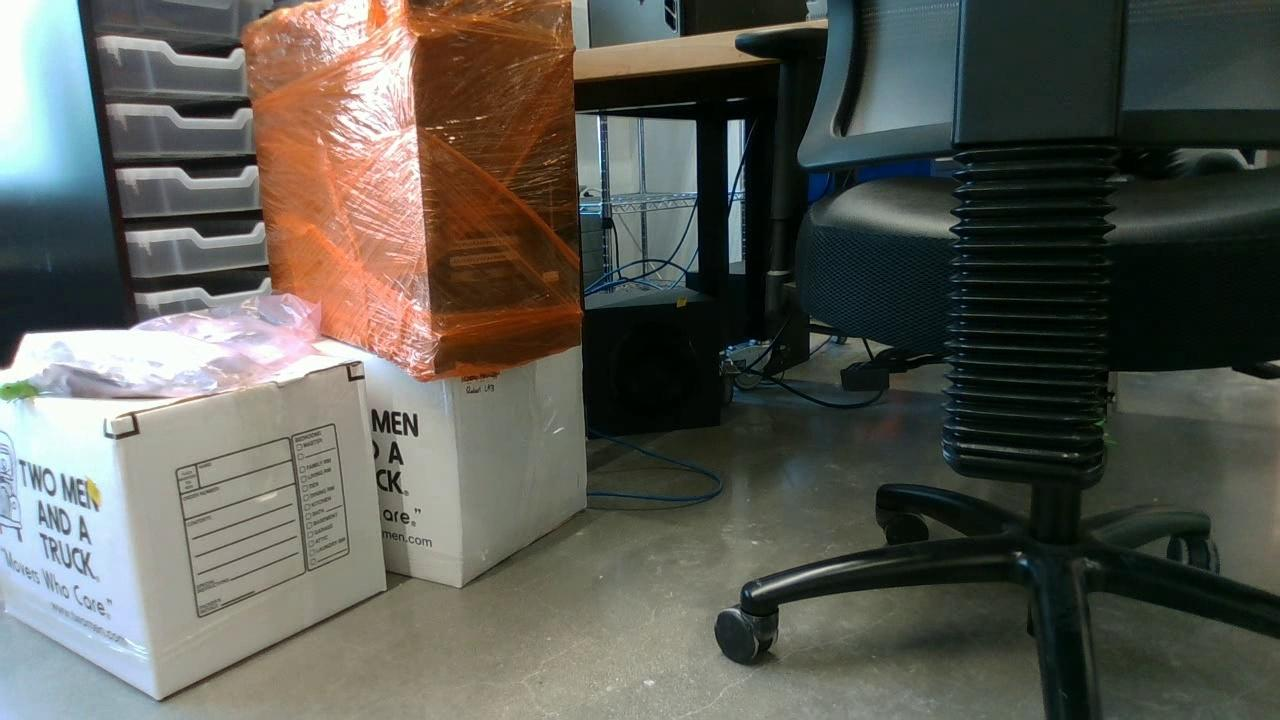grasshopper: (1, 369, 44, 403)
